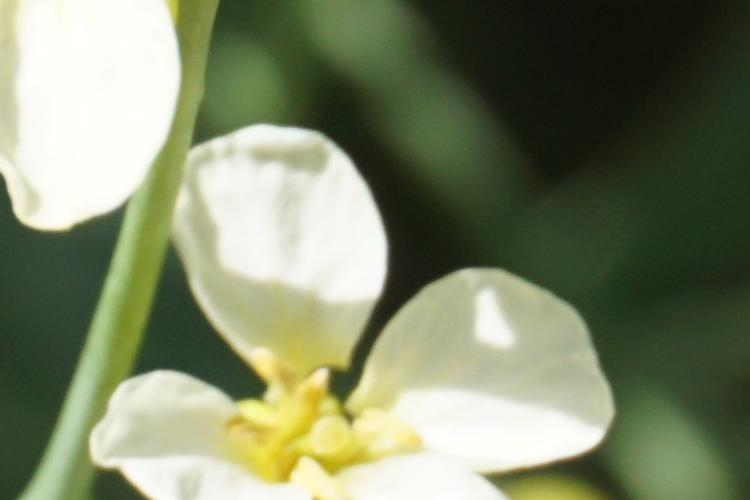white: (87, 133, 607, 485), (5, 3, 176, 218)
